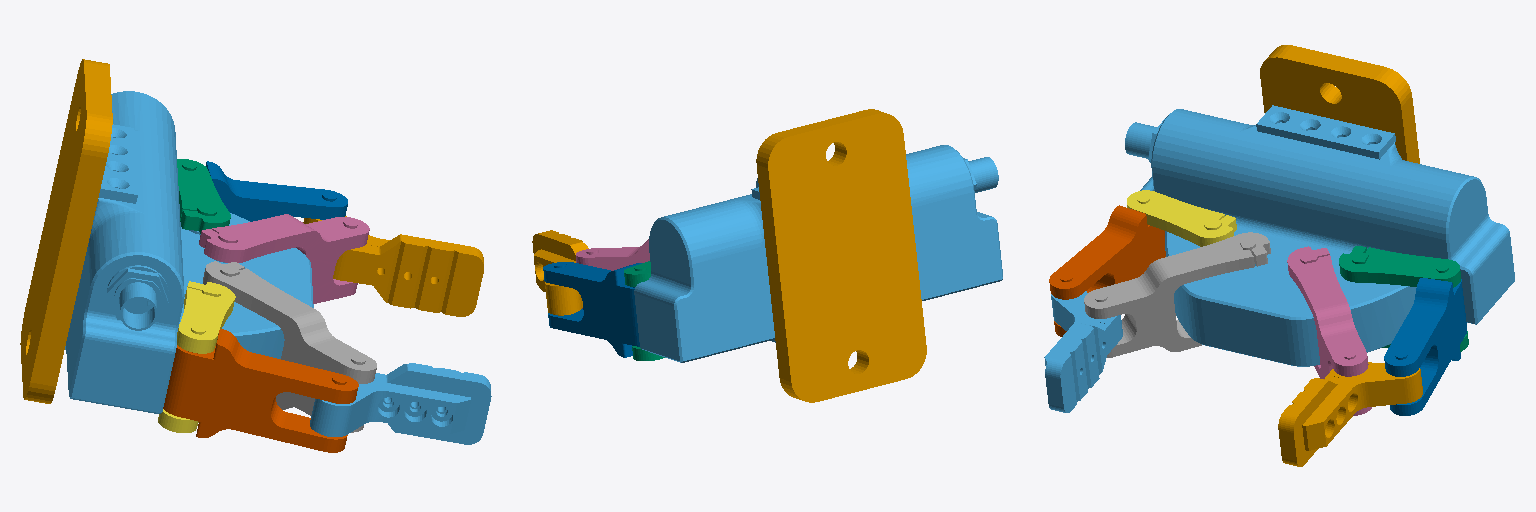
The robot description file, URDF, robot "robotiq_c2":
<?xml version="1.0" ?>
<robot name="robotiq_c2" xmlns:xacro="http://ros.org/wiki/xacro">
  <link name="robotiq_85_adapter_link">
    <visual>
      <geometry>
        <mesh filename="../meshes/robotiq_c2/visual/robotiq_85_gripper_adapter_plate.obj"/>
      </geometry>
      <origin rpy="1.5707 0 1.5707" xyz="0 0 0"/>
    </visual>
    <collision>
      <geometry>
        <mesh filename="../meshes/robotiq_c2/collision/robotiq_85_gripper_adapter_plate.stl"/>
      </geometry>
      <origin rpy="0 0 1.5707" xyz="0 0 0"/>
    </collision>
  </link>
  <joint name="robotiq_85_base_joint" type="fixed">
    <parent link="robotiq_85_adapter_link"/>
    <child link="robotiq_85_base_link"/>
    <axis xyz="1 0 0"/>
    <origin rpy="0 0 0" xyz=".0085 0 -.0041"/>
  </joint>
  <link name="robotiq_85_base_link">
    <visual>
      <geometry>
        <mesh filename="../meshes/robotiq_c2/visual/robotiq_85_gripper_base.obj"/>
      </geometry>
      <origin rpy="3.1415 0 1.5707" xyz="0 0 0"/>
    </visual>
    <collision>
      <geometry>
        <mesh filename="../meshes/robotiq_c2/collision/robotiq_85_gripper_base.stl"/>
      </geometry>
      <origin rpy="1.5707 0 1.5707" xyz="0 0 0"/>
    </collision>
  </link>
  <joint name="robotiq_85_left_knuckle_joint" type="revolute">
    <parent link="robotiq_85_base_link"/>
    <child link="robotiq_85_left_knuckle_link"/>
    <axis xyz="1 0 0"/>
    <origin rpy="-1.5707 1.5707 0" xyz="0.04191 0.0306 0"/>
    <limit effort="1000" lower="0" upper="0.8575" velocity="2.0"/>
  </joint>
  <joint name="robotiq_85_right_knuckle_joint" type="revolute">
    <parent link="robotiq_85_base_link"/>
    <child link="robotiq_85_right_knuckle_link"/>
    <axis xyz="1 0 0"/>
    <origin rpy="1.5707 -1.5707 0" xyz=".04191 -.0306 0"/>
    <limit effort="1000" lower="0" upper="1.5707" velocity="2.0"/>
    <mimic joint="robotiq_85_left_knuckle_joint" multiplier="1"/>
  </joint>
  <link name="robotiq_85_left_knuckle_link">
    <visual>
      <geometry>
        <mesh filename="../meshes/robotiq_c2/visual/robotiq_85_gripper_joint_0_L.obj"/>
      </geometry>
      <origin rpy="3.14159 -1.5707 0" xyz="0 .04191 -.0306"/>
    </visual>
    <collision>
      <geometry>
        <mesh filename="../meshes/robotiq_c2/collision/robotiq_85_gripper_joint_0_L.stl"/>
      </geometry>
      <origin rpy="1.5707 -1.5707 0" xyz="0 .04191 -.0306"/>
    </collision>
  </link>
  <link name="robotiq_85_right_knuckle_link">
    <visual>
      <geometry>
        <mesh filename="../meshes/robotiq_c2/visual/robotiq_85_gripper_joint_0_R.obj"/>
      </geometry>
      <origin rpy="3.14159 1.5707 0" xyz="0 .04191 -.0306"/>
    </visual>
    <collision>
      <geometry>
        <mesh filename="../meshes/robotiq_c2/collision/robotiq_85_gripper_joint_0_R.stl"/>
      </geometry>
      <origin rpy="1.5707 1.5707 0" xyz="0 .04191 -.0306"/>
    </collision>
  </link>
  <joint name="robotiq_85_left_finger_joint" type="fixed">
    <parent link="robotiq_85_left_knuckle_link"/>
    <child link="robotiq_85_left_finger_link"/>
    <axis xyz="1 0 0"/>
    <origin rpy="3.1415 0 0" xyz="0 .00508 .03134"/>
    <limit effort="1000" lower="0" upper="1.5707" velocity="2.0"/>
  </joint>
  <joint name="robotiq_85_right_finger_joint" type="fixed">
    <parent link="robotiq_85_right_knuckle_link"/>
    <child link="robotiq_85_right_finger_link"/>
    <axis xyz="1 0 0"/>
    <origin rpy="3.1415 0 0" xyz="0 .00508 .03134"/>
    <limit effort="1000" lower="0" upper="1.5707" velocity="2.0"/>
  </joint>
  <link name="robotiq_85_left_finger_link">
    <visual>
      <geometry>
        <mesh filename="../meshes/robotiq_c2/visual/robotiq_85_gripper_joint_1_L.obj"/>
      </geometry>
      <origin rpy="0 1.5707 0" xyz="0 -.03683 .06194"/>
    </visual>
    <collision>
      <geometry>
        <mesh filename="../meshes/robotiq_c2/collision/robotiq_85_gripper_joint_1_L.stl"/>
      </geometry>
      <origin rpy="-1.5707 1.5707 0" xyz="0 -.03683 .06194"/>
    </collision>
  </link>
  <link name="robotiq_85_right_finger_link">
    <visual>
      <geometry>
        <mesh filename="../meshes/robotiq_c2/visual/robotiq_85_gripper_joint_1_R.obj"/>
      </geometry>
      <origin rpy="0 -1.5707 0" xyz="0 -.03683 .06194"/>
    </visual>
    <collision>
      <geometry>
        <mesh filename="../meshes/robotiq_c2/collision/robotiq_85_gripper_joint_1_R.stl"/>
      </geometry>
      <origin rpy="-1.5707 -1.5707 0" xyz="0 -.03683 .06194"/>
    </collision>
  </link>
  <joint name="robotiq_85_left_inner_knuckle_joint" type="revolute">
    <parent link="robotiq_85_base_link"/>
    <child link="robotiq_85_left_inner_knuckle_link"/>
    <axis xyz="1 0 0"/>
    <origin rpy="1.5707 1.5707 0" xyz=".04843 .0127 0"/>
    <limit effort="1000" lower="0" upper="1.5707" velocity="2.0"/>
    <mimic joint="robotiq_85_left_knuckle_joint" offset="0"/>
  </joint>
  <joint name="robotiq_85_right_inner_knuckle_joint" type="revolute">
    <parent link="robotiq_85_base_link"/>
    <child link="robotiq_85_right_inner_knuckle_link"/>
    <axis xyz="1 0 0"/>
    <origin rpy="-1.5707 -1.5707 0" xyz=".04843 -.0127 0"/>
    <limit effort="1000" lower="0" upper="1.5707" velocity="2.0"/>
    <mimic joint="robotiq_85_left_knuckle_joint" offset="0"/>
  </joint>
  <link name="robotiq_85_left_inner_knuckle_link">
    <visual>
      <geometry>
        <mesh filename="../meshes/robotiq_c2/visual/robotiq_85_gripper_joint_2_L.obj"/>
      </geometry>
      <origin rpy="0 1.5707 0" xyz="0 -.04843 .0127"/>
    </visual>
    <collision>
      <geometry>
        <mesh filename="../meshes/robotiq_c2/collision/robotiq_85_gripper_joint_2_L.stl"/>
      </geometry>
      <origin rpy="-1.5707 1.5707 0" xyz="0 -.04843 .0127"/>
    </collision>
  </link>
  <link name="robotiq_85_right_inner_knuckle_link">
    <visual>
      <geometry>
        <mesh filename="../meshes/robotiq_c2/visual/robotiq_85_gripper_joint_2_R.obj"/>
      </geometry>
      <origin rpy="0 -1.5707 0" xyz="0 -.04843 .0127"/>
    </visual>
    <collision>
      <geometry>
        <mesh filename="../meshes/robotiq_c2/collision/robotiq_85_gripper_joint_2_R.stl"/>
      </geometry>
      <origin rpy="-1.5707 -1.5707 0" xyz="0 -.04843 .0127"/>
    </collision>
  </link>
  <joint name="robotiq_85_left_finger_tip_joint" type="revolute">
    <parent link="robotiq_85_left_inner_knuckle_link"/>
    <child link="robotiq_85_left_finger_tip_link"/>
    <axis xyz="1 0 0"/>
    <origin rpy="0 0 0" xyz="0 .04196 -.0388"/>
    <limit effort="1000" lower="0" upper="1.5707" velocity="2.0"/>
    <mimic joint="robotiq_85_left_knuckle_joint" multiplier="-1"/>
  </joint>
  <joint name="robotiq_85_right_finger_tip_joint" type="revolute">
    <parent link="robotiq_85_right_inner_knuckle_link"/>
    <child link="robotiq_85_right_finger_tip_link"/>
    <axis xyz="1 0 0"/>
    <origin rpy="0 0 0" xyz="0 .04196 -.0388"/>
    <limit effort="1000" lower="0" upper="1.5707" velocity="2.0"/>
    <mimic joint="robotiq_85_left_knuckle_joint" multiplier="-1"/>
  </joint>
  <link name="robotiq_85_left_finger_tip_link">
    <visual>
      <geometry>
        <mesh filename="../meshes/robotiq_c2/visual/robotiq_85_gripper_joint_3_L.obj"/>
      </geometry>
      <origin rpy="0 1.5707 0" xyz="0 -.090381 .051505"/>
    </visual>
    <collision>
      <geometry>
        <mesh filename="../meshes/robotiq_c2/collision/robotiq_85_gripper_joint_3_L.stl"/>
      </geometry>
      <origin rpy="-1.5707 1.5707 0" xyz="0 -.090381 .051505"/>
    </collision>
  </link>
  <link name="robotiq_85_right_finger_tip_link">
    <visual>
      <geometry>
        <mesh filename="../meshes/robotiq_c2/visual/robotiq_85_gripper_joint_3_R.obj"/>
      </geometry>
      <origin rpy="0 -1.5707 0" xyz="0 -.090381 .051505"/>
    </visual>
    <collision>
      <geometry>
        <mesh filename="../meshes/robotiq_c2/collision/robotiq_85_gripper_joint_3_R.stl"/>
      </geometry>
      <origin rpy="-1.5707 -1.5707 0" xyz="0 -.090381 .051505"/>
    </collision>
  </link>

  <link name="world"/>
  <joint name="world_joint" type="fixed">
    <parent link="world"/>
    <child link="robotiq_85_adapter_link"/>
    <origin rpy="0.0 0.2 -0.5" xyz="0.0 0.0 0.2"/>
  </joint>

</robot>

--- Render facts (derived) ---
3 views of the same robot in one strip: view 1: azimuth 30°, elevation 25°; view 2: azimuth 150°, elevation 25°; view 3: azimuth 270°, elevation 25° (orthographic).
Model robotiq_c2 with 11 links and 10 joints (6 revolute, 4 fixed), rooted at world, posed all joints at 0.
Links seen in each view (by area): view 1: robotiq_85_base_link, robotiq_85_adapter_link, robotiq_85_right_finger_link, robotiq_85_right_finger_tip_link, robotiq_85_left_finger_tip_link, robotiq_85_right_inner_knuckle_link, robotiq_85_left_inner_knuckle_link, robotiq_85_left_finger_link, robotiq_85_right_knuckle_link, robotiq_85_left_knuckle_link; view 2: robotiq_85_adapter_link, robotiq_85_base_link, robotiq_85_left_finger_link, robotiq_85_left_finger_tip_link, robotiq_85_left_inner_knuckle_link, robotiq_85_left_knuckle_link; view 3: robotiq_85_base_link, robotiq_85_adapter_link, robotiq_85_right_inner_knuckle_link, robotiq_85_left_finger_tip_link, robotiq_85_left_finger_link, robotiq_85_right_finger_link, robotiq_85_right_finger_tip_link, robotiq_85_left_inner_knuckle_link, robotiq_85_left_knuckle_link, robotiq_85_right_knuckle_link.
Boxes of the visible links, left/top/right/bottom form: robotiq_85_base_link: left=65, top=91, right=313, bottom=413; robotiq_85_adapter_link: left=20, top=59, right=112, bottom=403; robotiq_85_right_finger_link: left=163, top=329, right=358, bottom=452; robotiq_85_right_finger_tip_link: left=310, top=363, right=491, bottom=444; robotiq_85_left_finger_tip_link: left=303, top=216, right=483, bottom=316; robotiq_85_right_inner_knuckle_link: left=203, top=261, right=376, bottom=432; robotiq_85_left_inner_knuckle_link: left=199, top=214, right=369, bottom=303; robotiq_85_left_finger_link: left=206, top=161, right=347, bottom=221; robotiq_85_right_knuckle_link: left=158, top=281, right=235, bottom=432; robotiq_85_left_knuckle_link: left=177, top=159, right=230, bottom=233; robotiq_85_adapter_link: left=756, top=109, right=926, bottom=402; robotiq_85_base_link: left=634, top=145, right=1002, bottom=362; robotiq_85_left_finger_link: left=543, top=262, right=641, bottom=357; robotiq_85_left_finger_tip_link: left=532, top=230, right=588, bottom=315; robotiq_85_left_inner_knuckle_link: left=576, top=239, right=649, bottom=308; robotiq_85_left_knuckle_link: left=624, top=261, right=664, bottom=360; robotiq_85_base_link: left=1125, top=105, right=1514, bottom=366; robotiq_85_adapter_link: left=1260, top=45, right=1419, bottom=163; robotiq_85_right_inner_knuckle_link: left=1084, top=232, right=1270, bottom=357; robotiq_85_left_finger_tip_link: left=1278, top=362, right=1422, bottom=466; robotiq_85_left_finger_link: left=1384, top=278, right=1466, bottom=415; robotiq_85_right_finger_link: left=1049, top=205, right=1165, bottom=336; robotiq_85_right_finger_tip_link: left=1044, top=291, right=1122, bottom=412; robotiq_85_left_inner_knuckle_link: left=1287, top=246, right=1371, bottom=415; robotiq_85_left_knuckle_link: left=1339, top=246, right=1468, bottom=351; robotiq_85_right_knuckle_link: left=1127, top=190, right=1236, bottom=246.
Bounding box of the posed robot: 0.1768 × 0.1713 × 0.1034 m (x, y, z).
Meshes: 10 distinct files referenced, 10 mesh visuals loaded (10 OBJ).